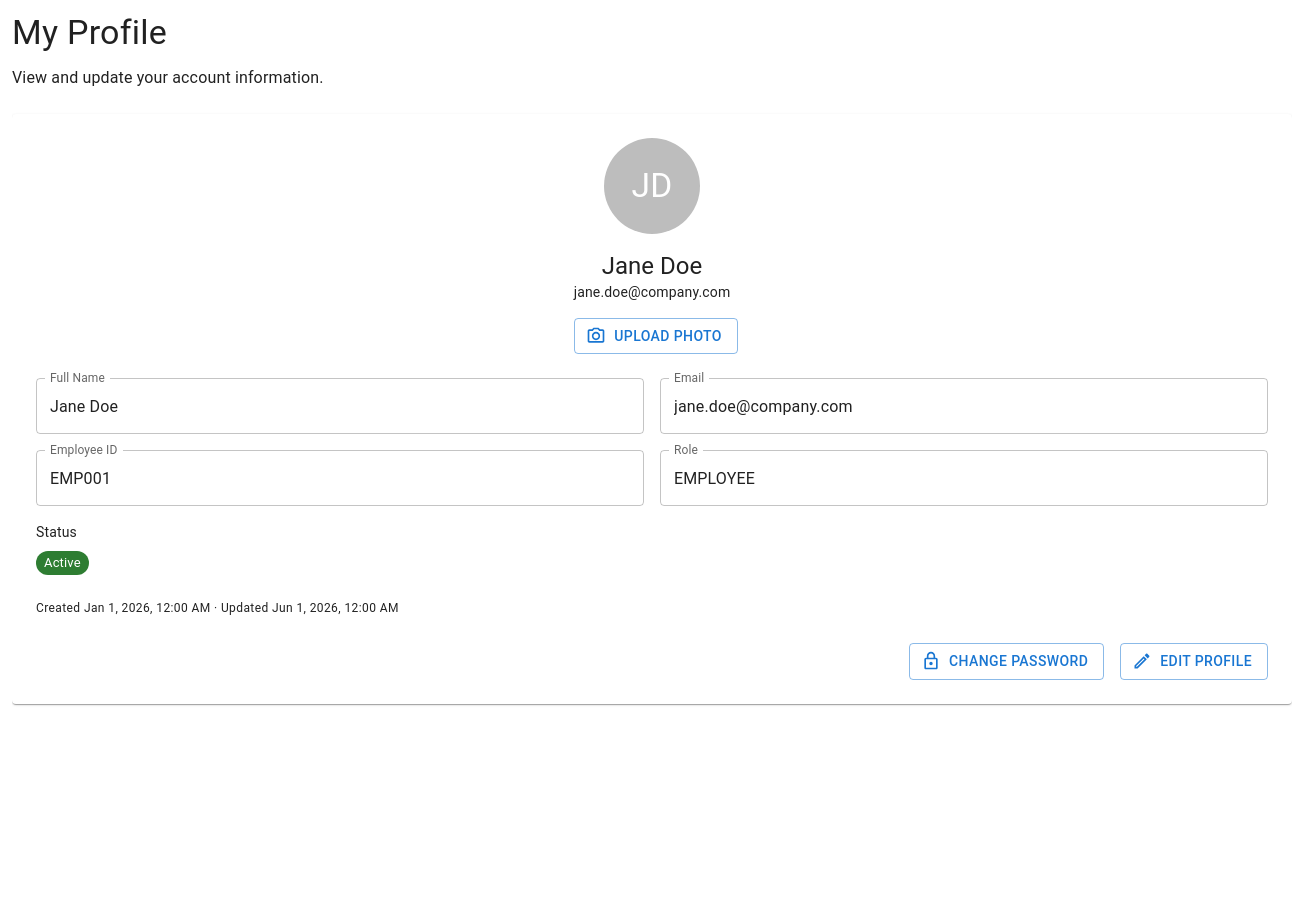
it: ProfilePage › updates profile and refreshes auth context on save
Step 1. Click the button "Edit Profile" → (1194, 661), box [1120,643,1268,680]
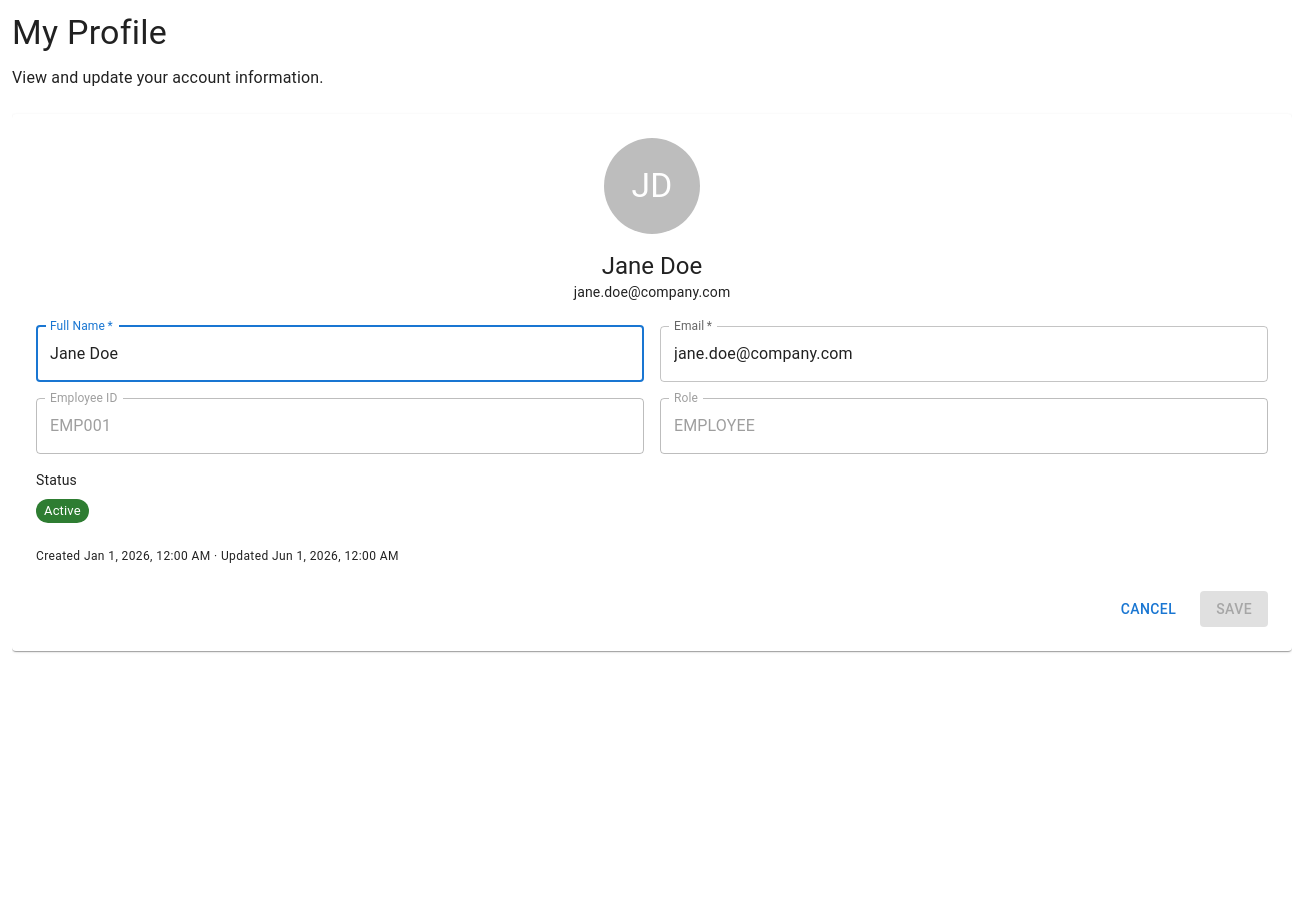
Step 2. Replace the text in the field labelled "Full Name" with "Jane Smith" → (340, 354), box [36,326,644,382]
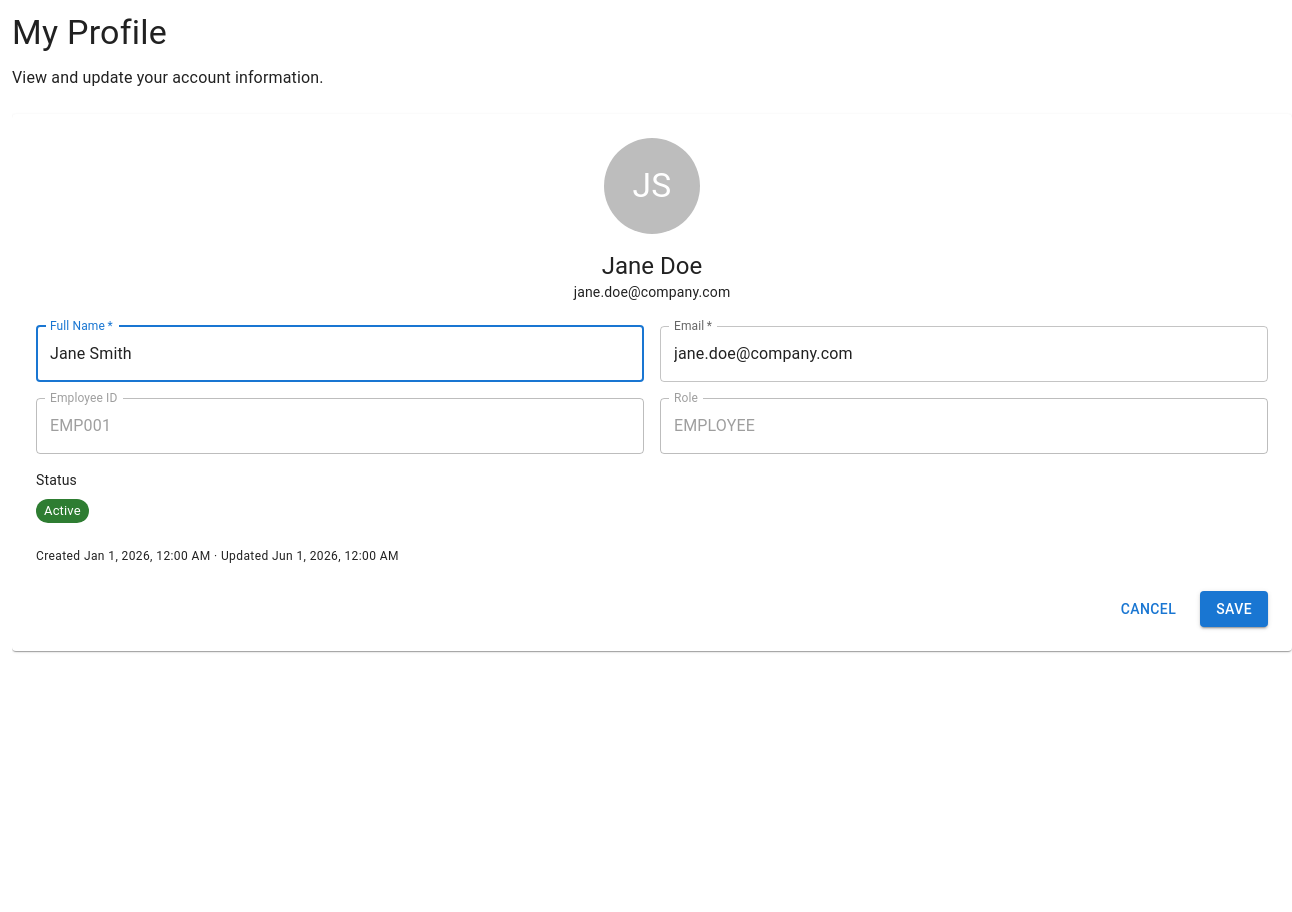
Step 3. Replace the text in the field labelled "Email" with "jane.smith@company.com" → (964, 354), box [660,326,1268,382]
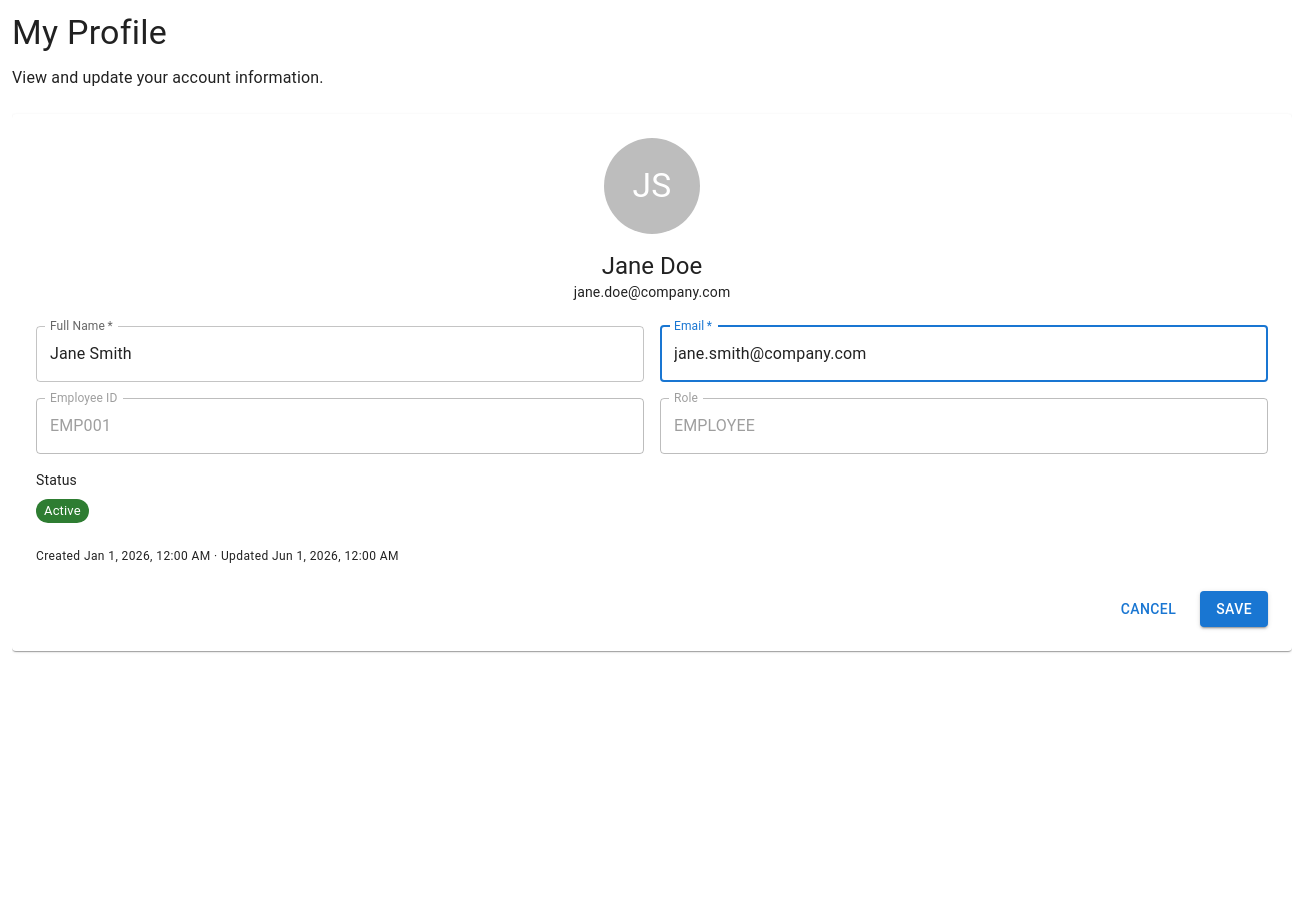
Step 4. Click the button "Save" → (1234, 609), box [1200,591,1268,627]
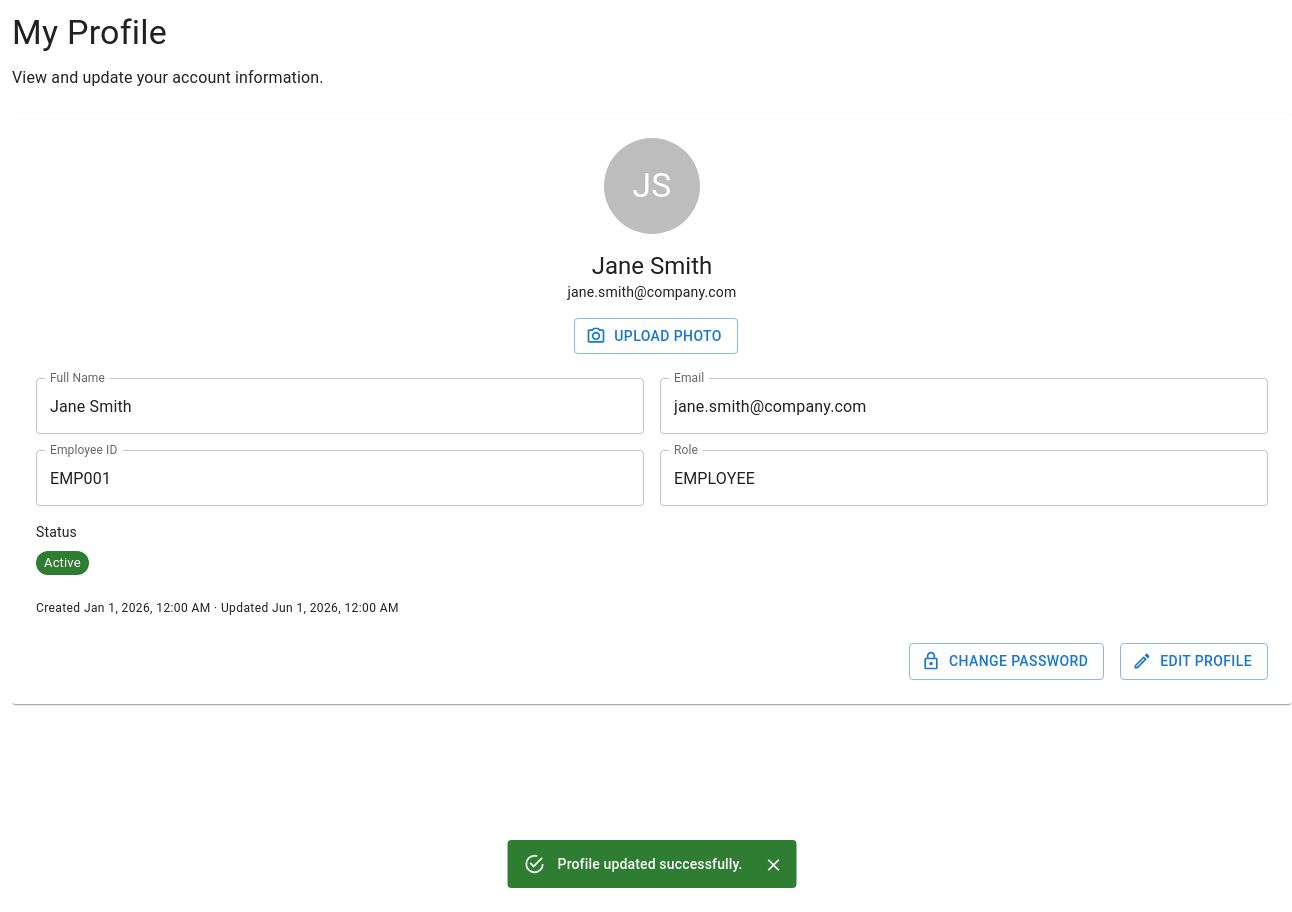
Expected: the text "Profile updated successfully." is shown, [558,856,742,872]
Expected: the field showing "Jane Smith" is shown, [36,378,644,434]
Expected: the button "Save" is gone
